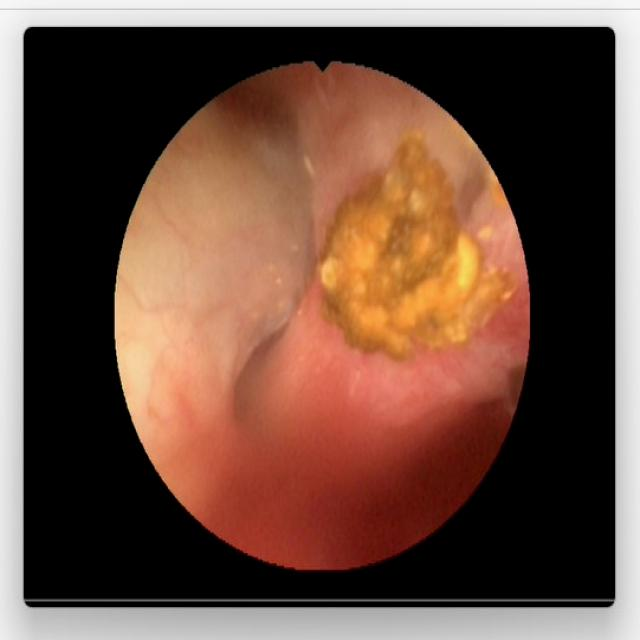stone: (321, 134, 514, 356)
tissue: (123, 71, 526, 559)
